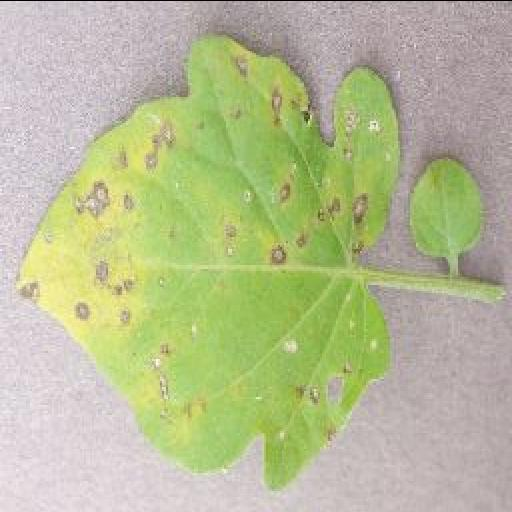disease_tomato: (13, 32, 403, 485)
